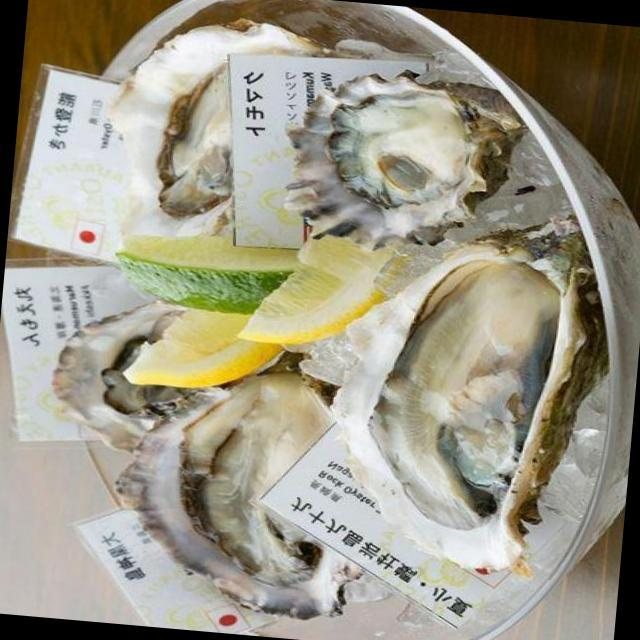Oyster-Open: (321, 193, 623, 584), (95, 352, 348, 624), (87, 7, 320, 257), (271, 59, 529, 264), (43, 289, 245, 466)
